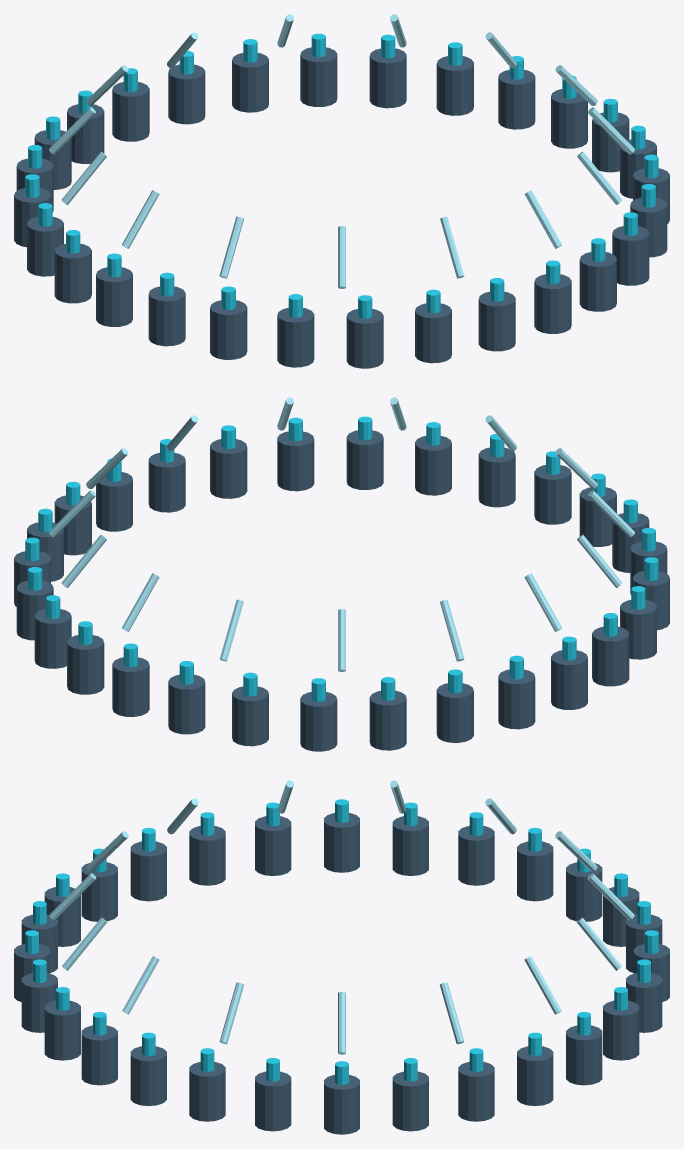
The model's file is 20_L76_MultiZoneElectrolyteNozzleArray.fbx.
The picture shows the model from 3 angles, top to bottom: view 1: azimuth 30°, elevation 25°; view 2: azimuth 150°, elevation 25°; view 3: azimuth 270°, elevation 25°; orthographic projection.
Visible parts, largest first — view 1: MultiZoneElectrolyteNozzleArray, MultiZoneElectrolyteNozzleArray_Part_0062, MultiZoneElectrolyteNozzleArray_Part_0063, MultiZoneElectrolyteNozzleArray_Part_0058, MultiZoneElectrolyteNozzleArray_Part_0059, MultiZoneElectrolyteNozzleArray_Part_0064, MultiZoneElectrolyteNozzleArray_Part_0060; view 2: MultiZoneElectrolyteNozzleArray, MultiZoneElectrolyteNozzleArray_Part_0064, MultiZoneElectrolyteNozzleArray_Part_0065, MultiZoneElectrolyteNozzleArray_Part_0069, MultiZoneElectrolyteNozzleArray_Part_0068, MultiZoneElectrolyteNozzleArray_Part_0063, MultiZoneElectrolyteNozzleArray_Part_0067; view 3: MultiZoneElectrolyteNozzleArray, MultiZoneElectrolyteNozzleArray_Part_0057, MultiZoneElectrolyteNozzleArray_Part_0070, MultiZoneElectrolyteNozzleArray_Part_0058, MultiZoneElectrolyteNozzleArray_Part_0069.
Boxes of the visible parts, x1=… form: MultiZoneElectrolyteNozzleArray: x1=14, y1=33, x2=669, y2=368; MultiZoneElectrolyteNozzleArray_Part_0062: x1=219, y1=216, x2=243, y2=278; MultiZoneElectrolyteNozzleArray_Part_0063: x1=122, y1=190, x2=159, y2=248; MultiZoneElectrolyteNozzleArray_Part_0058: x1=577, y1=151, x2=622, y2=204; MultiZoneElectrolyteNozzleArray_Part_0059: x1=524, y1=190, x2=561, y2=248; MultiZoneElectrolyteNozzleArray_Part_0064: x1=61, y1=151, x2=106, y2=204; MultiZoneElectrolyteNozzleArray_Part_0060: x1=440, y1=216, x2=464, y2=278; MultiZoneElectrolyteNozzleArray: x1=14, y1=416, x2=669, y2=751; MultiZoneElectrolyteNozzleArray_Part_0064: x1=524, y1=573, x2=561, y2=631; MultiZoneElectrolyteNozzleArray_Part_0065: x1=440, y1=599, x2=464, y2=661; MultiZoneElectrolyteNozzleArray_Part_0069: x1=61, y1=534, x2=106, y2=587; MultiZoneElectrolyteNozzleArray_Part_0068: x1=122, y1=573, x2=159, y2=631; MultiZoneElectrolyteNozzleArray_Part_0063: x1=577, y1=534, x2=622, y2=587; MultiZoneElectrolyteNozzleArray_Part_0067: x1=219, y1=599, x2=243, y2=661; MultiZoneElectrolyteNozzleArray: x1=14, y1=799, x2=669, y2=1134; MultiZoneElectrolyteNozzleArray_Part_0057: x1=219, y1=982, x2=243, y2=1044; MultiZoneElectrolyteNozzleArray_Part_0070: x1=440, y1=982, x2=464, y2=1044; MultiZoneElectrolyteNozzleArray_Part_0058: x1=122, y1=956, x2=159, y2=1014; MultiZoneElectrolyteNozzleArray_Part_0069: x1=524, y1=956, x2=561, y2=1014.
Size of the model in its own units: 318 by 59.31 by 318.
